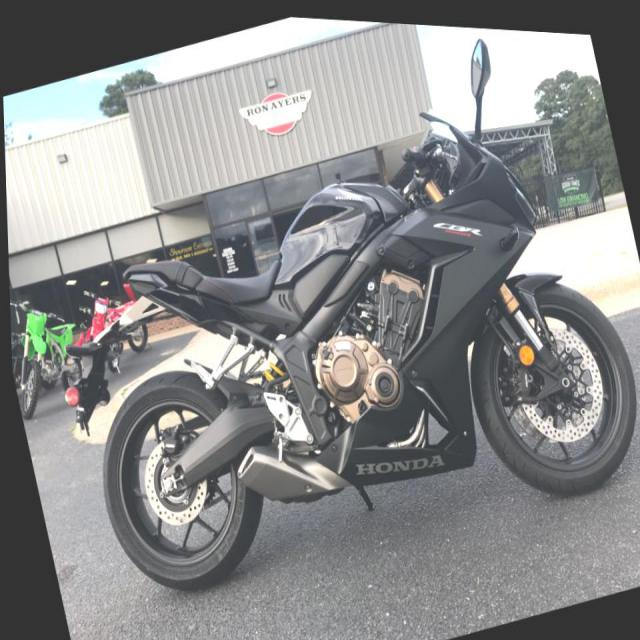CBR650R: (35, 38, 639, 639)
